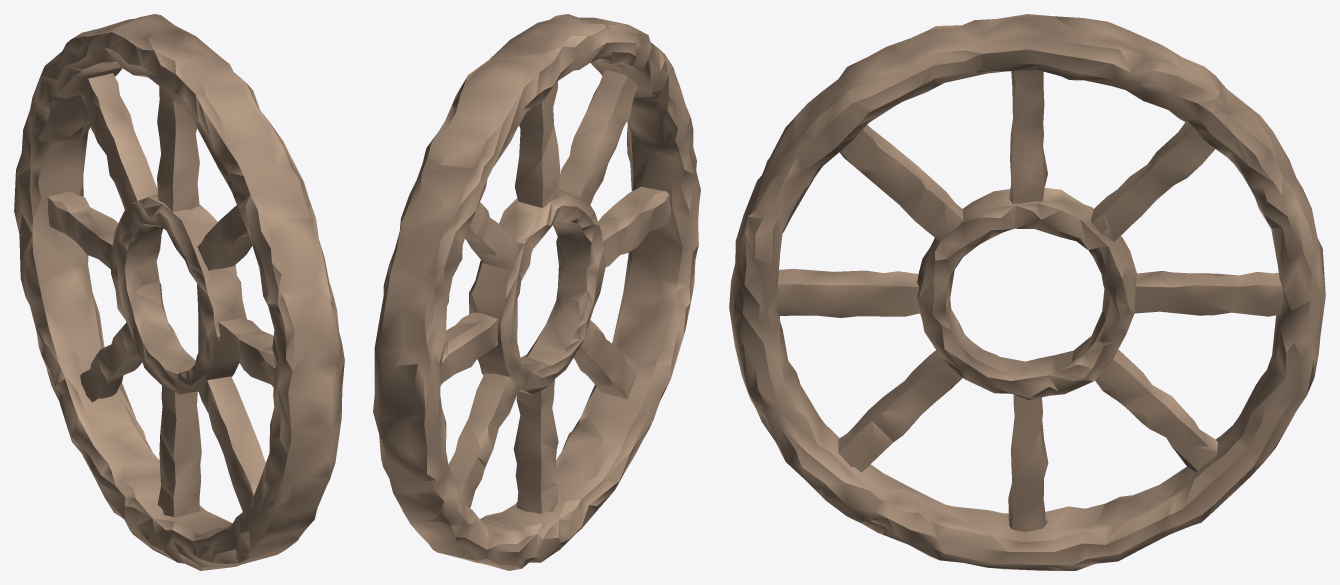
File: Window01.fbx
3 views of the same model, side by side, from view 1: azimuth 30°, elevation 25°; view 2: azimuth 150°, elevation 25°; view 3: azimuth 270°, elevation 25° (orthographic). The views are drawn at different scales.
Parts seen in each view (by area): view 1: Window01; view 2: Window01; view 3: Window01.
Boxes of the visible parts, left/top/right/bottom form: Window01: left=14, top=14, right=344, bottom=570; Window01: left=373, top=14, right=700, bottom=570; Window01: left=729, top=14, right=1325, bottom=570.
Size of the model in its own units: 21.87 by 160 by 159.
